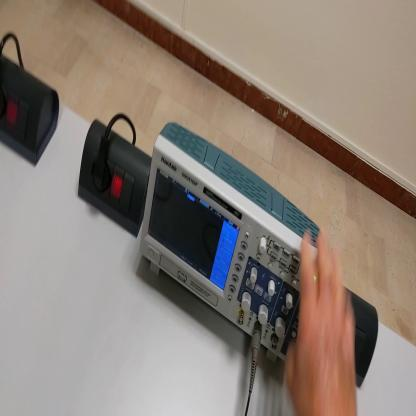hand: (285, 227, 360, 415)
oscilloscope: (140, 112, 319, 361)
socket: (77, 118, 153, 239), (2, 51, 61, 170)
